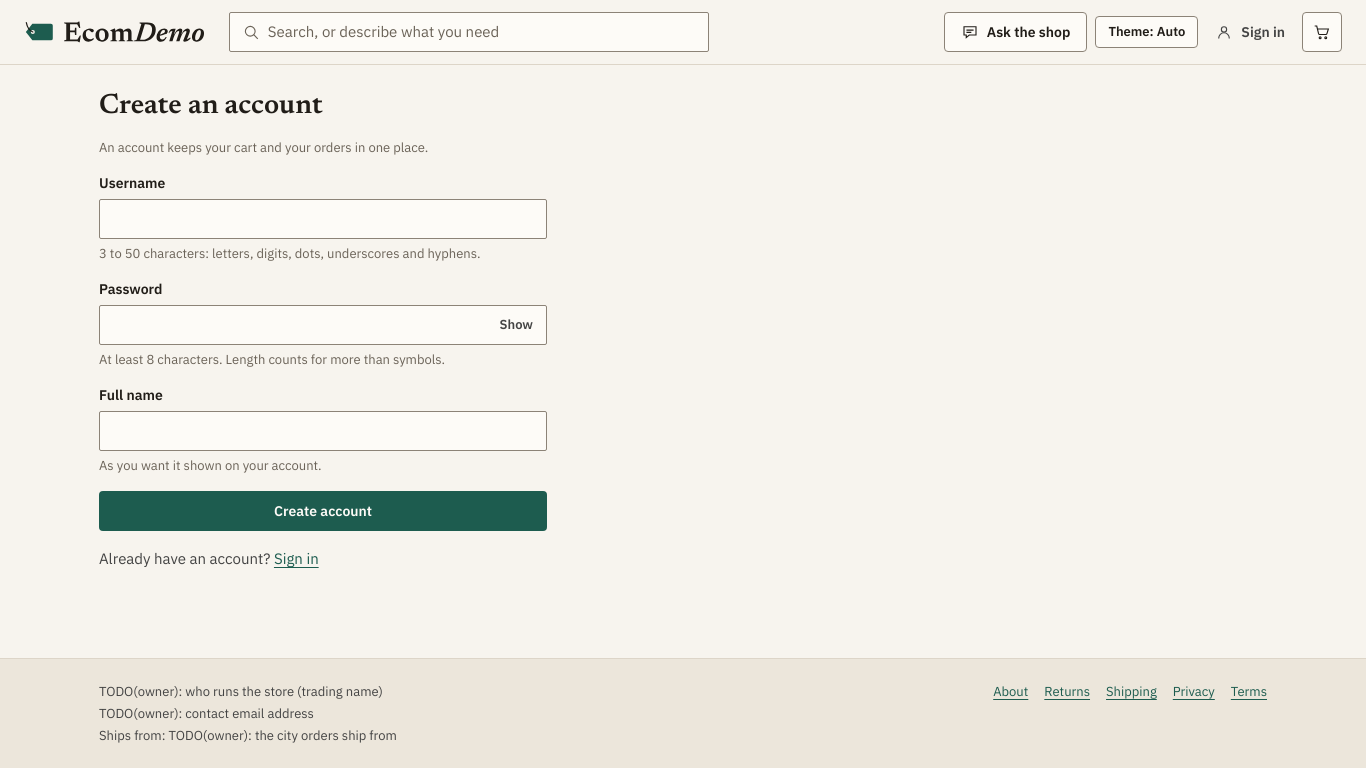
Test: the register page › validation in the browser › shows and hides the password on request
Expected: the heading "Create an account" is shown, [99, 89, 323, 123]
Type "correct horse" into the password field labelled "Password" at (297, 325), box [112, 306, 483, 344]
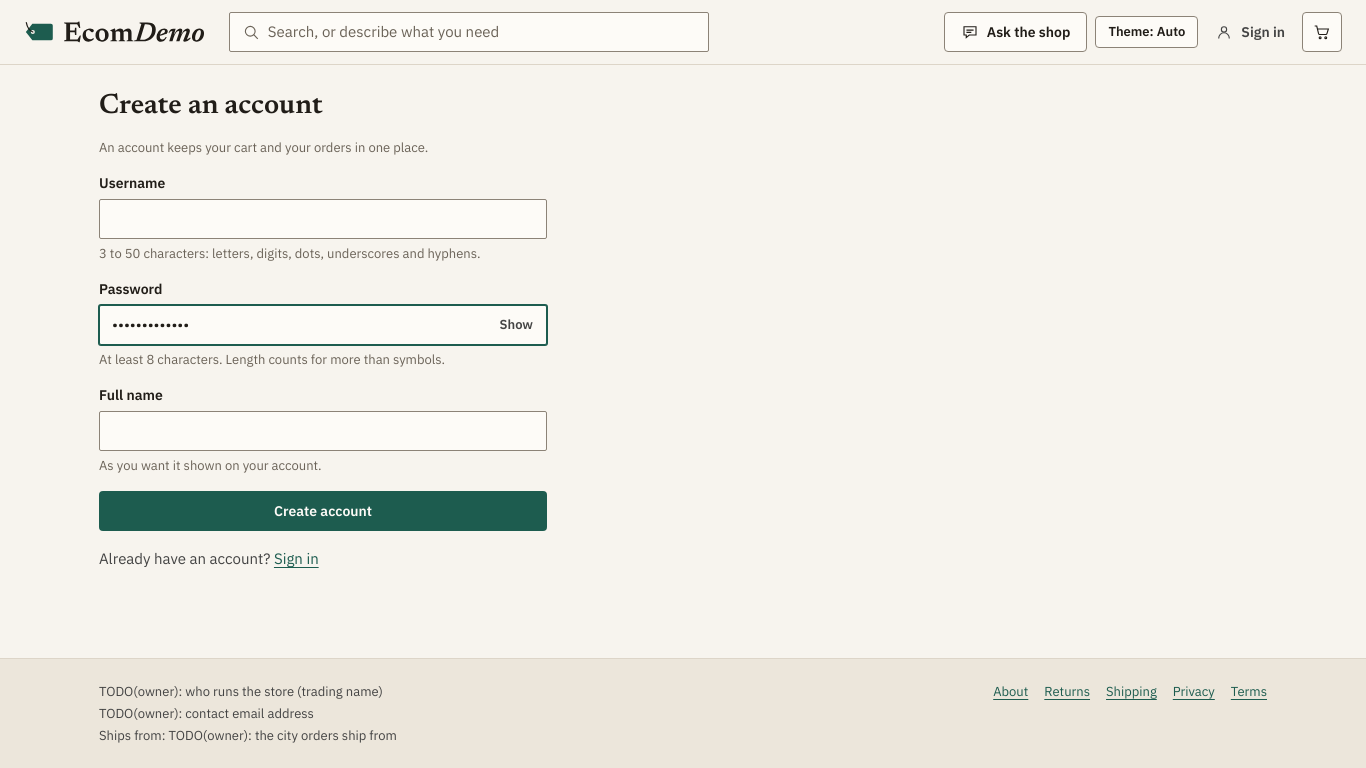
Click the button with aria-label "Show password" at (516, 325), box [491, 309, 542, 341]
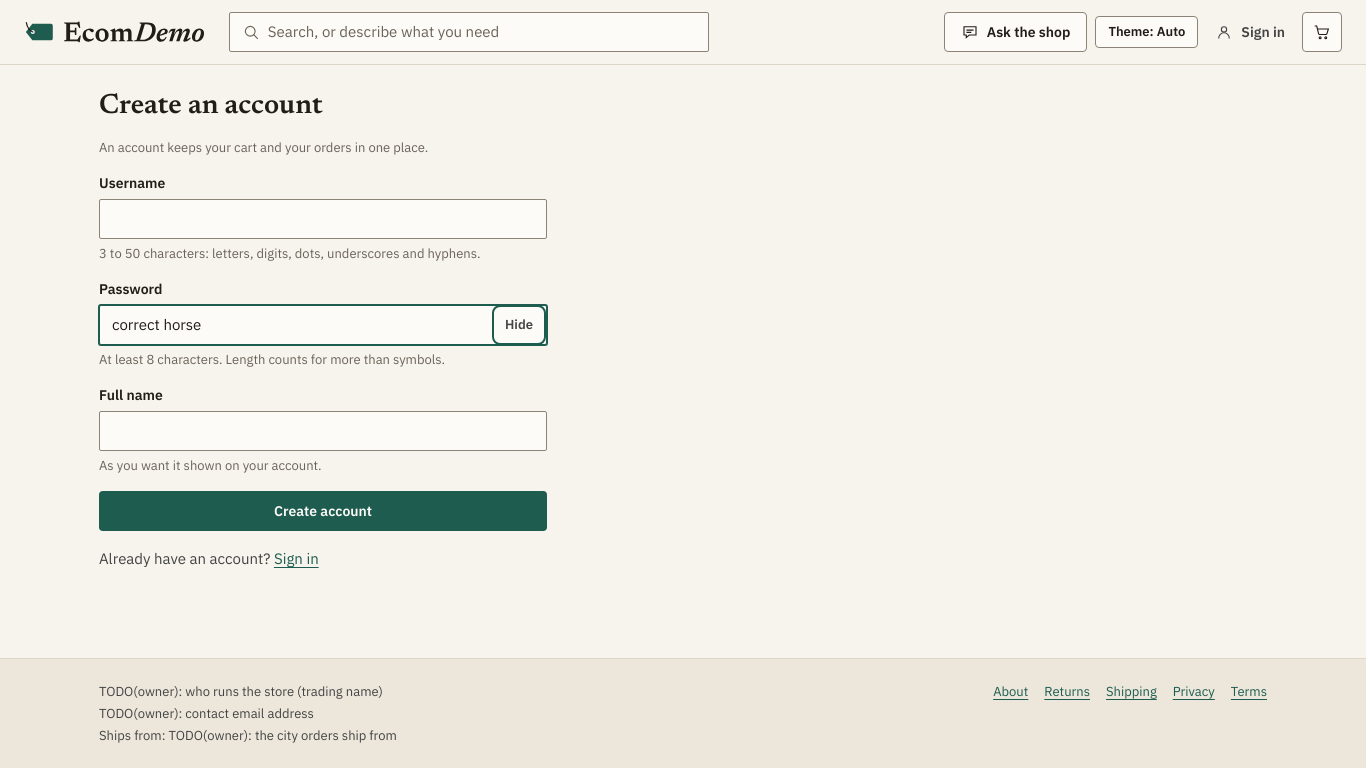
Expected: the field labelled "Password" shows its text, [112, 306, 488, 344]
Expected: the button with aria-label "Hide password" is shown, [496, 309, 542, 341]
